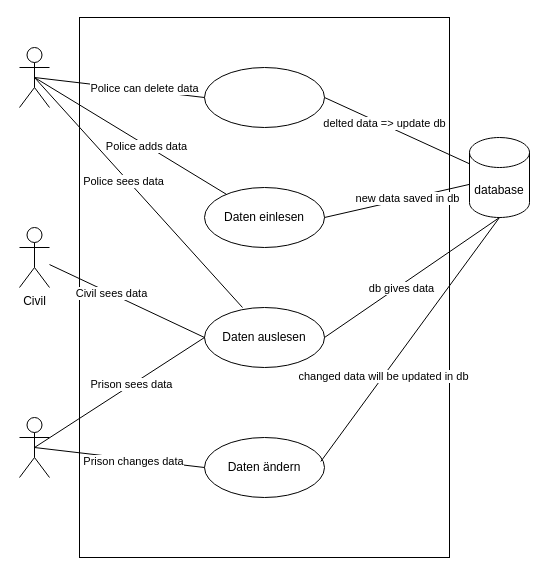
The diagram is 547 pixels wide and 575 high, and some of its shapes have lost their labels. Each missing label, with the centre of its shape:
"Daten löschen" goes at (264,97).
"Police" goes at (34,77).
"Prison" goes at (34,447).
